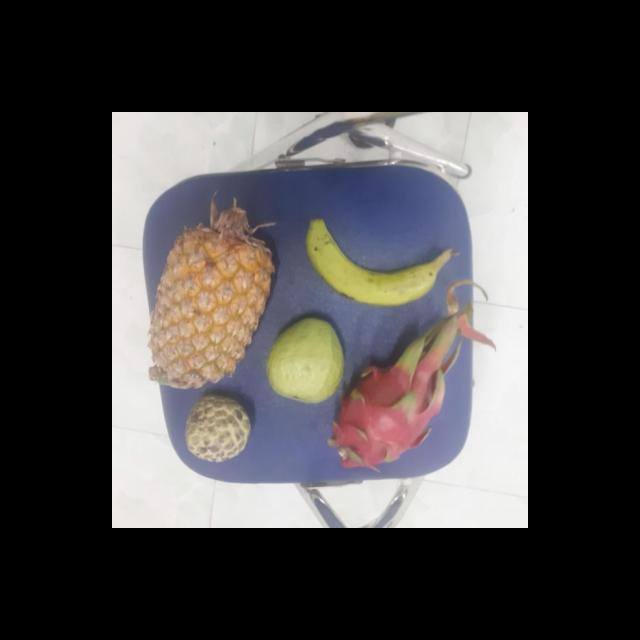Sakya fruit: (184, 396, 254, 462)
banana: (309, 226, 456, 306)
guava: (266, 318, 348, 402)
pineapple: (154, 220, 276, 387)
pitaya: (332, 358, 443, 469)
